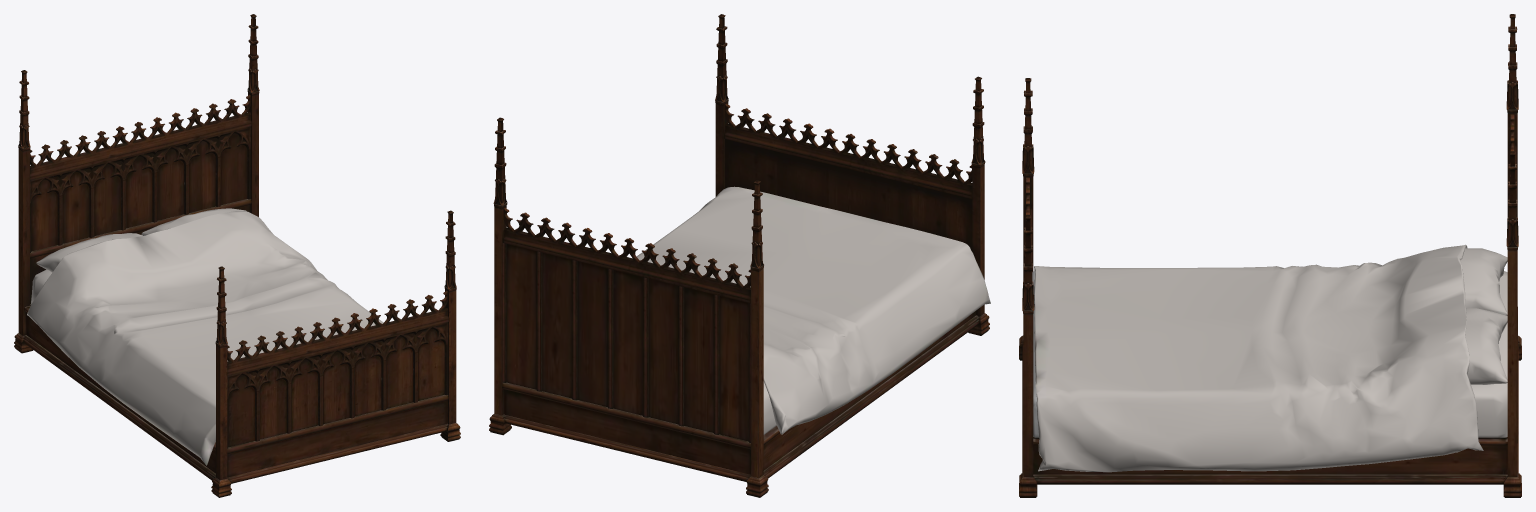
Rendered from GothicBed_01.glb.
3 renders of one model, left to right at view 1: azimuth 30°, elevation 25°; view 2: azimuth 150°, elevation 25°; view 3: azimuth 270°, elevation 25°, orthographic. The views are drawn at different scales.
Visible parts, largest first — view 1: GothicBed_01; view 2: GothicBed_01; view 3: GothicBed_01.
Part boxes in pixels (x1,y1,x2,y2): GothicBed_01: (14,14,460,497); GothicBed_01: (489,14,990,497); GothicBed_01: (1019,14,1521,497).
Size of the model in its own units: 1.49 by 1.53 by 2.04.
1 material, 1 textured.
